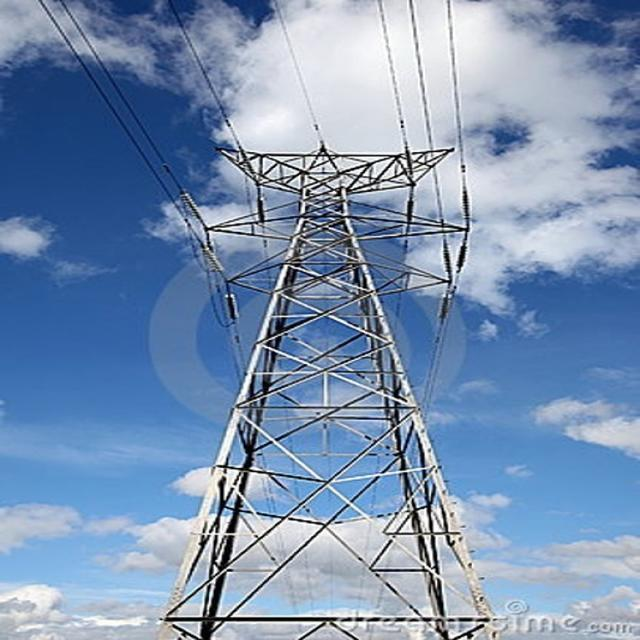non-critical vegetation: (152, 143, 504, 622)
